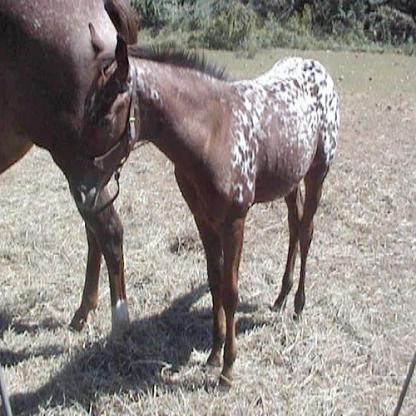horse: (68, 21, 340, 396), (0, 0, 138, 355)
